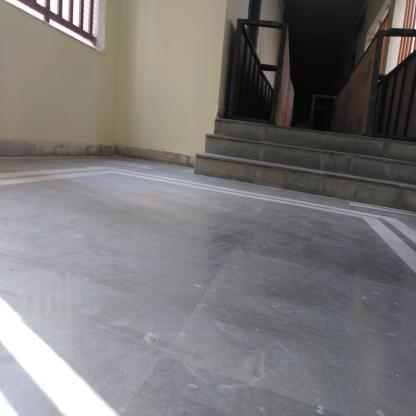stairs: (218, 128, 402, 189)
